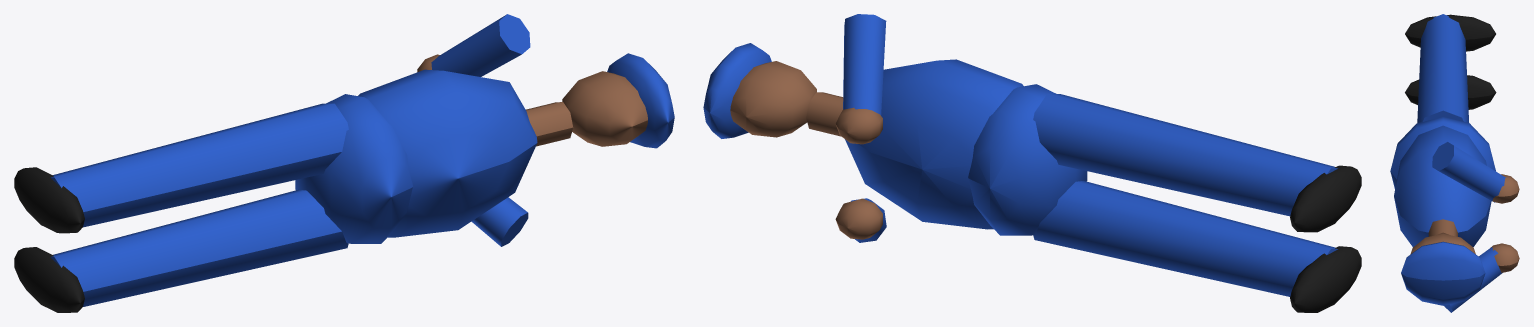
Rendered from person_plain_prone.obj.
3 renders of one model, left to right at view 1: azimuth 30°, elevation 25°; view 2: azimuth 150°, elevation 25°; view 3: azimuth 270°, elevation 25°, orthographic. The views are drawn at different scales.
Bounding box in the file's own units: 1.8 × 0.6286 × 0.44.
3 materials, 1 textured.
